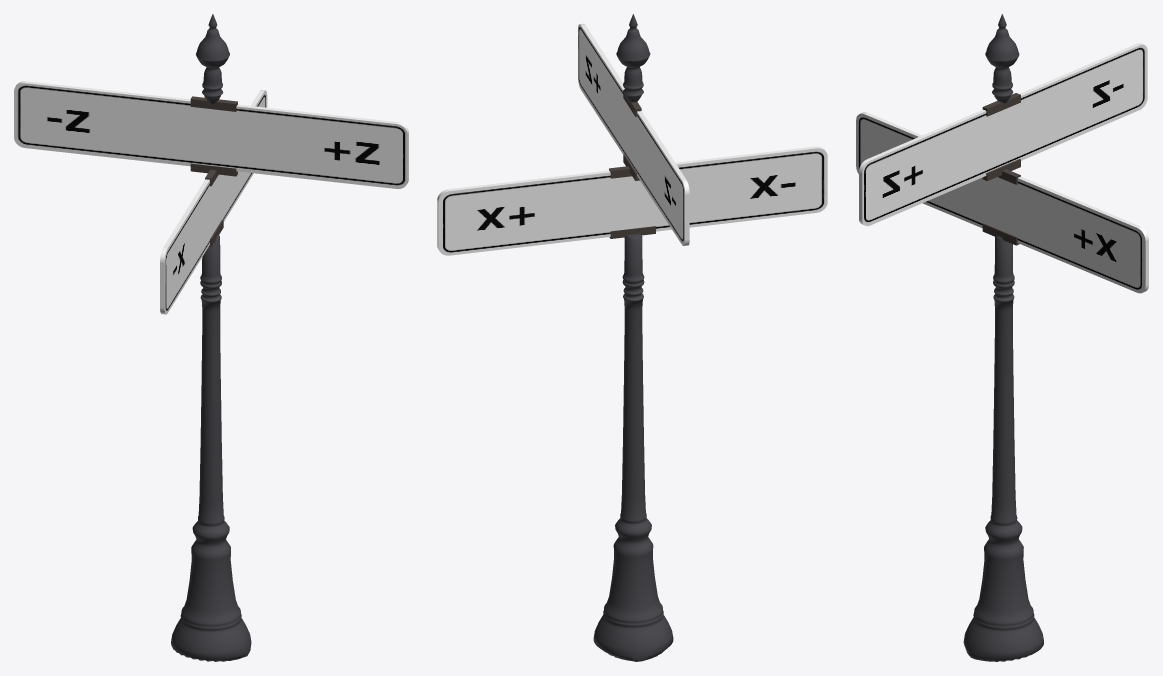
Rendered from intersection.dae.
3 renders of one model, left to right at view 1: azimuth 30°, elevation 25°; view 2: azimuth 150°, elevation 25°; view 3: azimuth 270°, elevation 25°, orthographic.
Visible parts, largest first — view 1: signA, node-Cylinder_002, signB; view 2: signB, node-Cylinder_002, signA; view 3: signA, node-Cylinder_002, signB.
Part boxes in pixels (x1=…): signA: x1=14, y1=81, x2=408, y2=188; node-Cylinder_002: x1=171, y1=14, x2=251, y2=661; signB: x1=160, y1=90, x2=267, y2=314; signB: x1=437, y1=146, x2=827, y2=255; node-Cylinder_002: x1=593, y1=14, x2=673, y2=661; signA: x1=578, y1=23, x2=689, y2=246; signA: x1=859, y1=43, x2=1147, y2=226; node-Cylinder_002: x1=963, y1=14, x2=1043, y2=661; signB: x1=856, y1=112, x2=1148, y2=293.
Size of what is drawn, in the model's own units: 60.88 by 60.87 by 146.
Materials: 4 (2 with a texture image).
